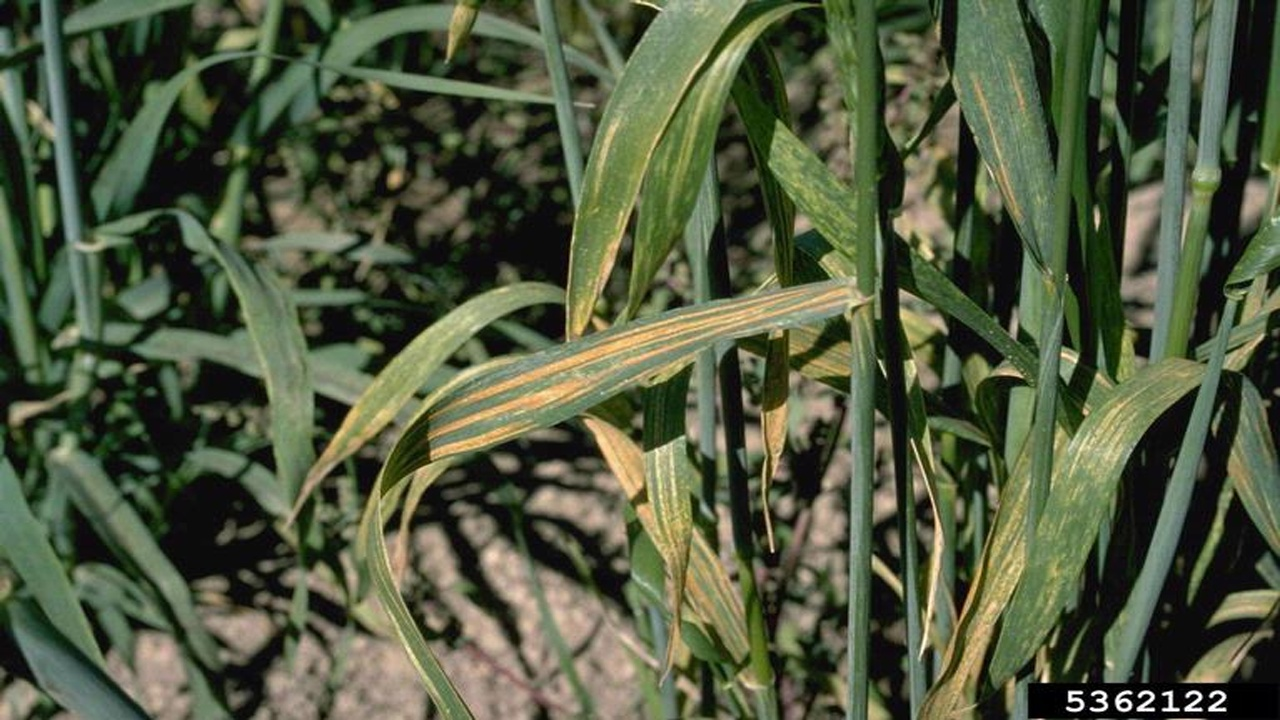stripe_rust: (383, 284, 853, 489), (922, 363, 1214, 682), (644, 363, 697, 686), (757, 336, 794, 551)
